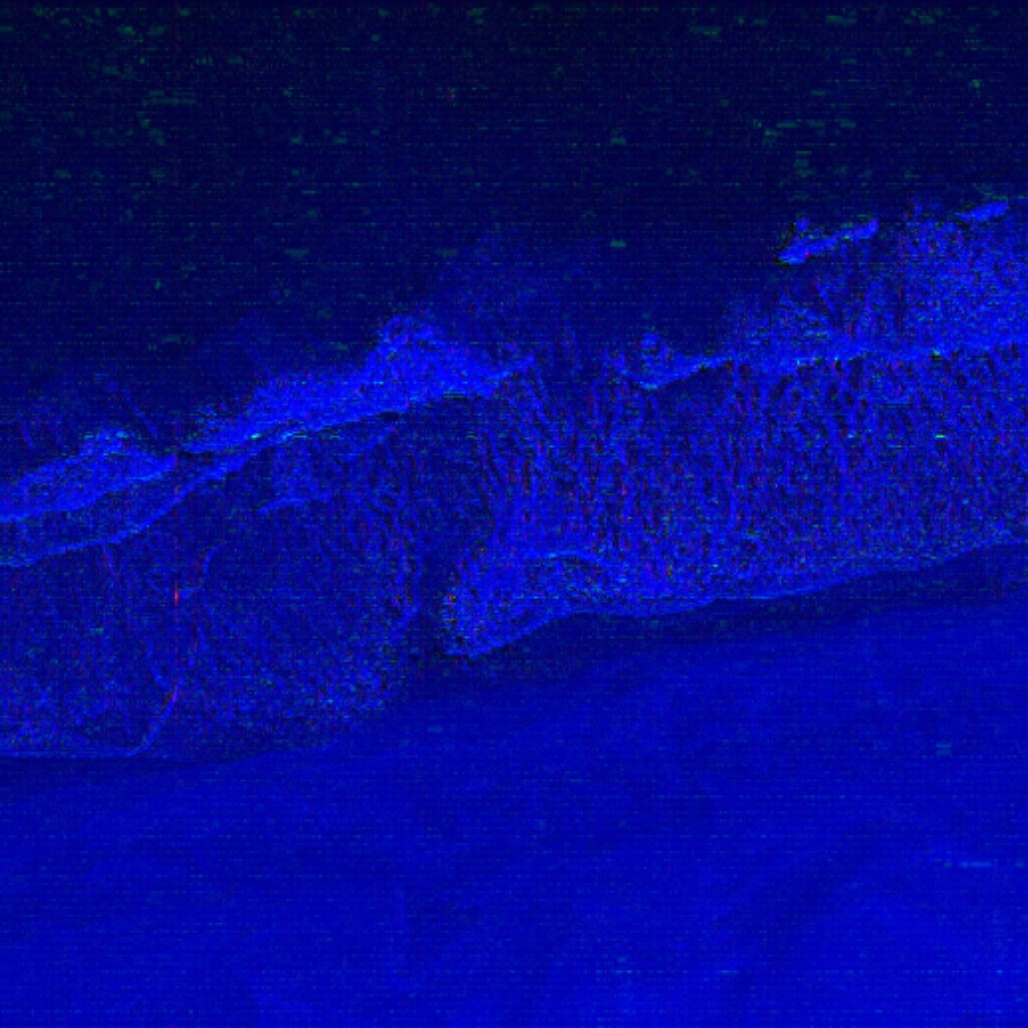rip_current: (257, 213, 544, 689)
